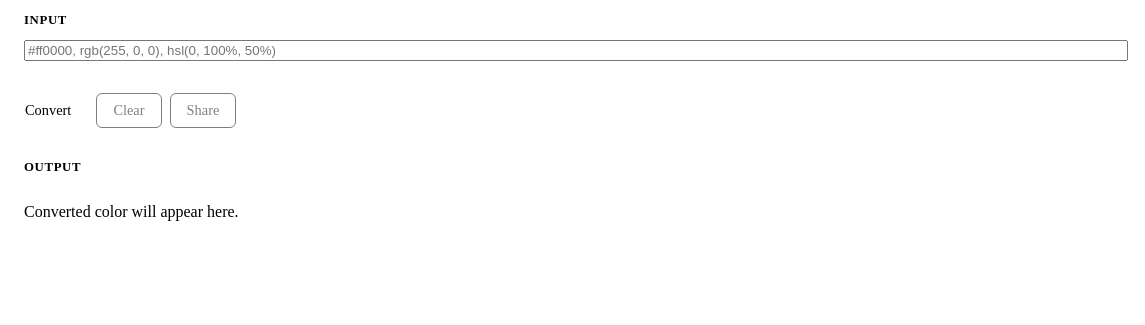
Scenario: ColorConverterTool › converts a color on demand and shows all formats
Type "#ff0000" into the field named "Color input" at (576, 50), box [24,40,1128,61]
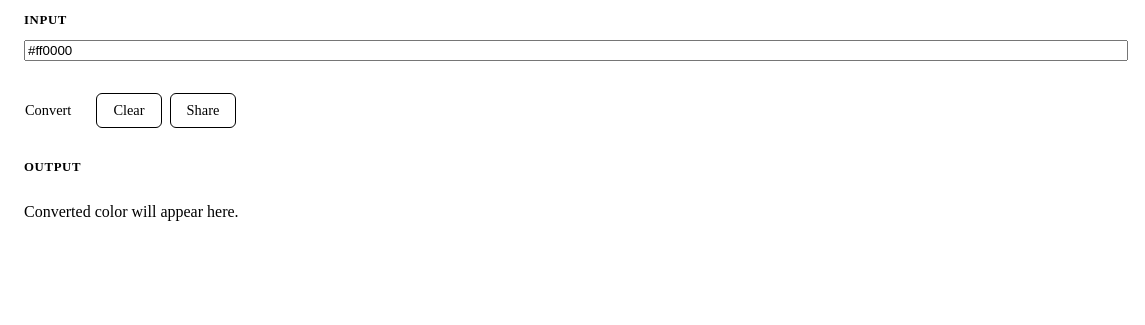
Click the button "Convert" at (48, 110), box [8,93,88,128]
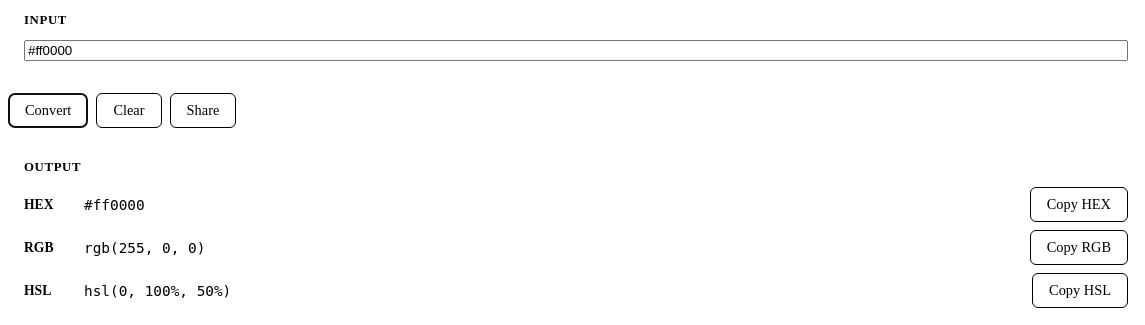
Expected: the element with test id "color-output" shows "#ff0000", [84,196,145,212]
Expected: the element with test id "color-output" shows "rgb(255, 0, 0)", [84,240,205,256]
Expected: the element with test id "color-output" shows "hsl(0, 100%, 50%)", [84,282,231,298]
